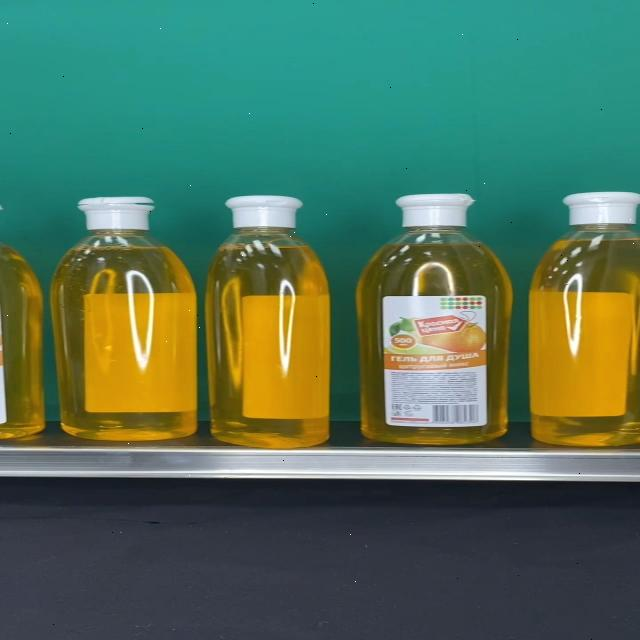Bottle: (357, 193, 512, 444), (49, 196, 197, 440), (206, 195, 330, 448), (529, 192, 640, 446)
Cap: (562, 192, 640, 226), (78, 196, 155, 230), (225, 195, 303, 228), (396, 193, 474, 226)
